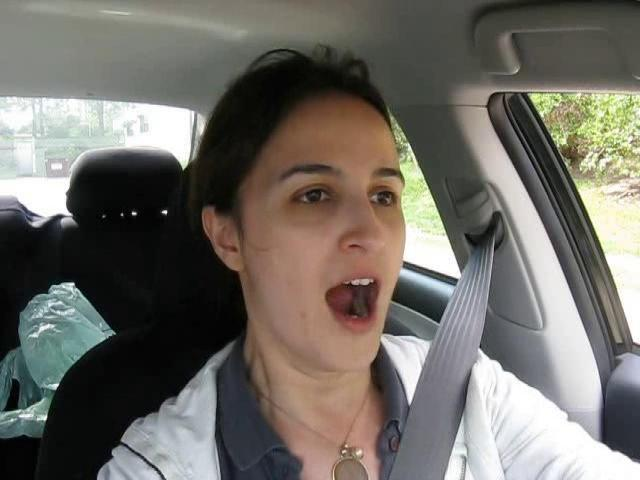eye_open: (287, 180, 338, 212), (366, 182, 402, 211)
face: (262, 144, 410, 378)
mouth_open: (317, 266, 385, 337)
